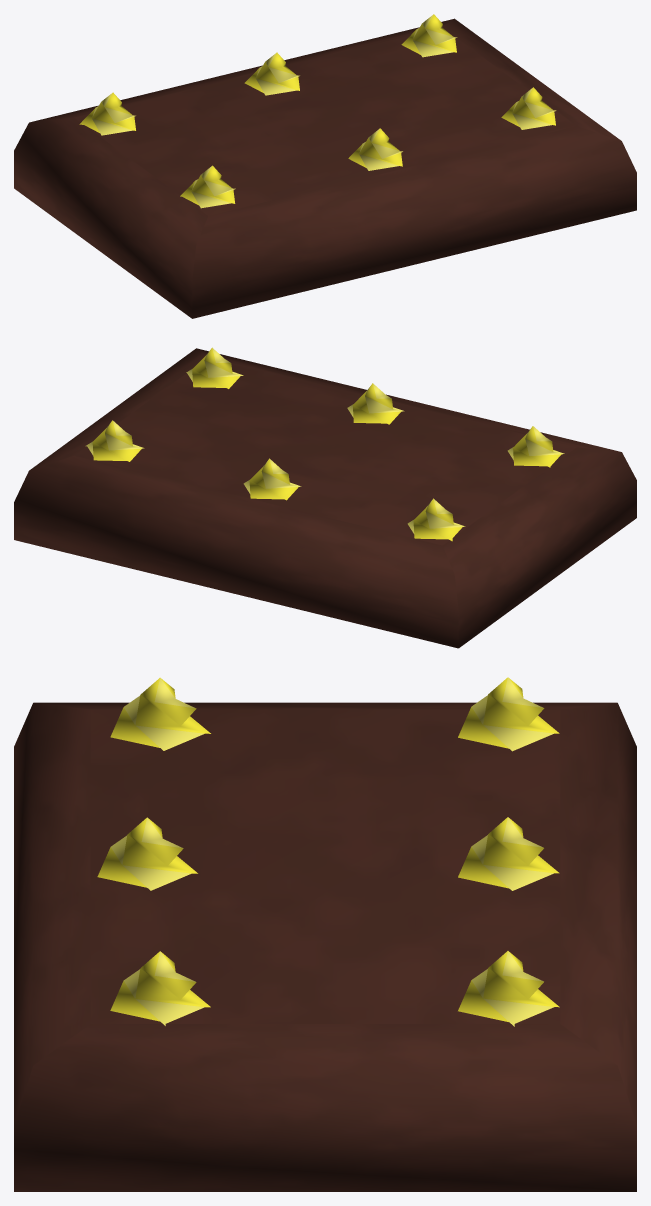
Rendered from Sheet_Cake_A_6.FBX.
The picture shows the model from 3 angles, top to bottom: view 1: azimuth 30°, elevation 25°; view 2: azimuth 150°, elevation 25°; view 3: azimuth 270°, elevation 25°; orthographic projection. The views are drawn at different scales.
Visible parts, largest first — view 1: Sheet Cake; view 2: Sheet Cake; view 3: Sheet Cake.
Boxes of the visible parts, x1,y1,x2,y2 form: Sheet Cake: [14, 14, 636, 318]; Sheet Cake: [14, 347, 636, 648]; Sheet Cake: [14, 677, 636, 1191].
Size of the model in its own units: 180 by 41.76 by 125.
